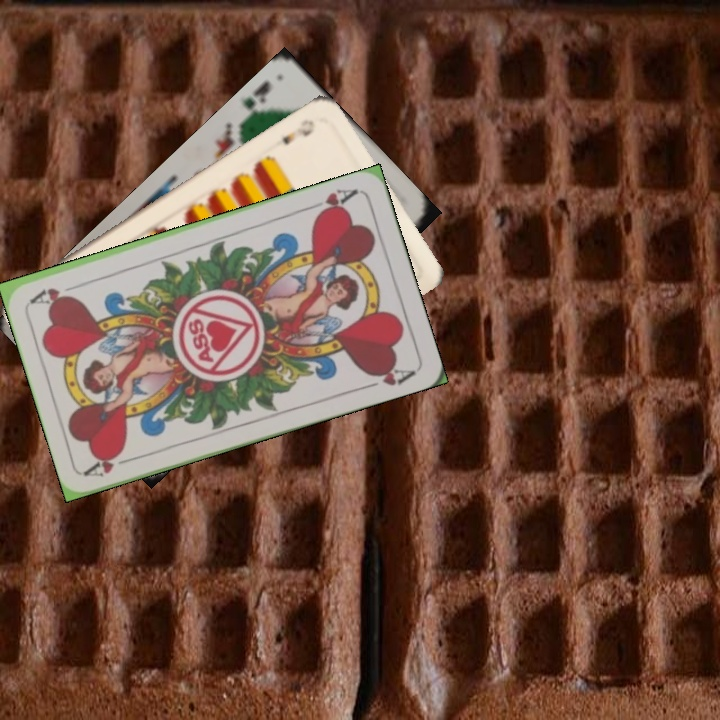E9: (278, 115, 318, 148)
GK: (238, 76, 273, 126)
HA: (303, 184, 361, 220), (82, 447, 141, 480)
